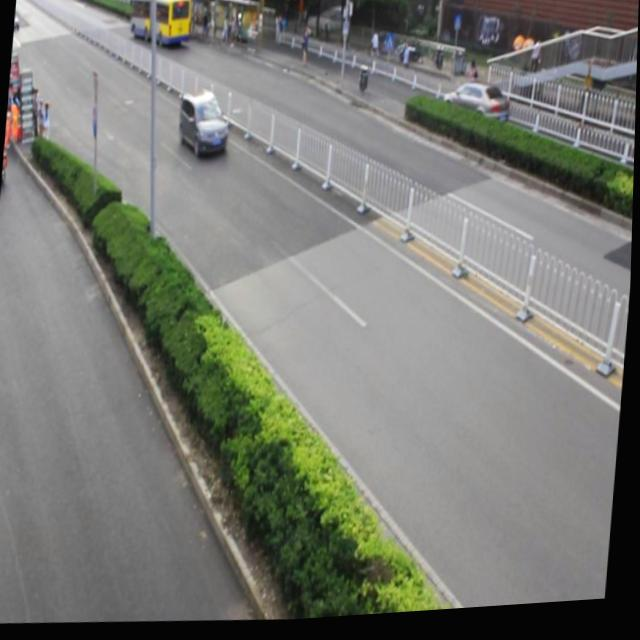car: (439, 87, 512, 150), (177, 92, 234, 164)
